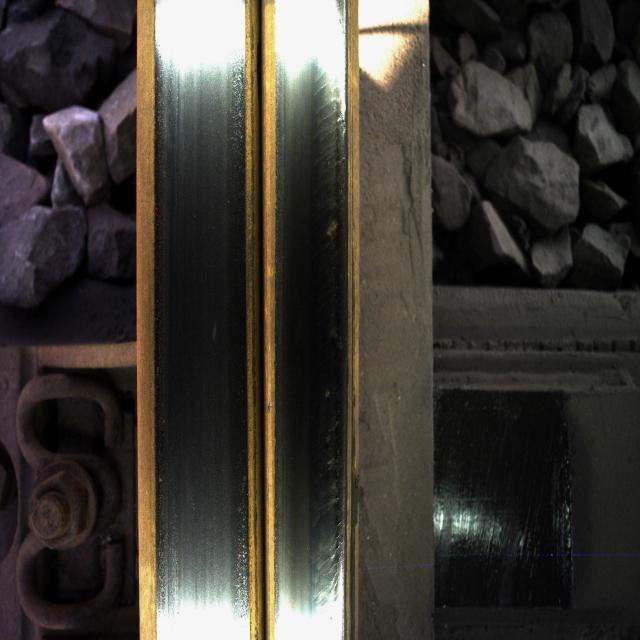normal: (151, 21, 234, 611)
scar: (301, 35, 350, 610)
